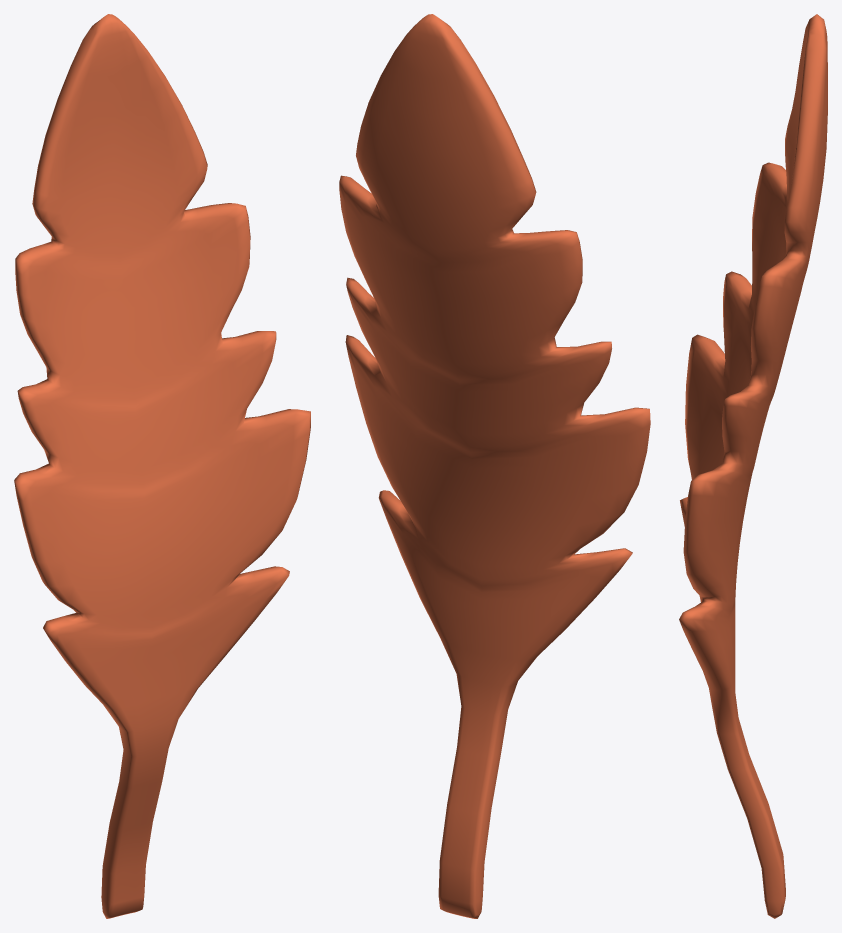
The model's file is pluma_fenix.fbx.
3 renders of one model, left to right at view 1: azimuth 30°, elevation 25°; view 2: azimuth 150°, elevation 25°; view 3: azimuth 270°, elevation 25°, orthographic. The views are drawn at different scales.
Visible parts, largest first — view 1: pluma.fenix; view 2: pluma.fenix; view 3: pluma.fenix.
Part boxes in pixels (x1,y1,x2,y2): pluma.fenix: (14,14,310,918); pluma.fenix: (339,14,650,918); pluma.fenix: (679,14,827,918).
Size of the model in its own units: 124 by 356 by 53.42.
